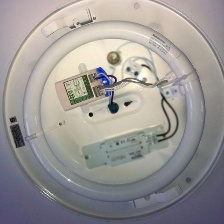light_bulb: (16, 14, 210, 205)
